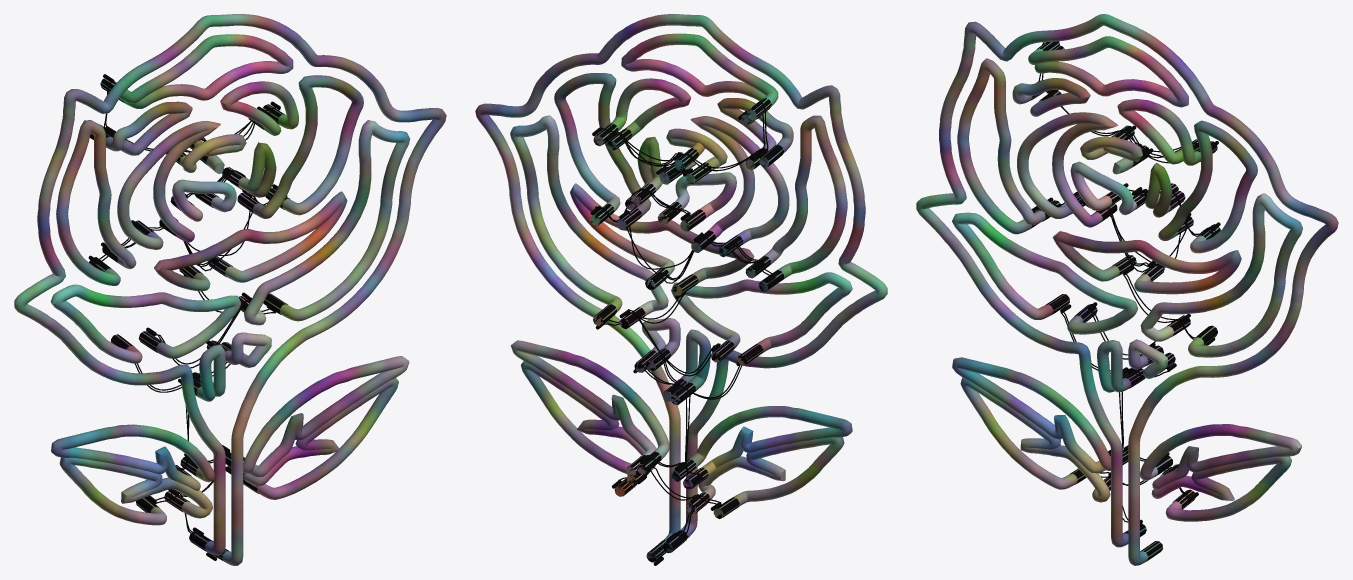
Rendered from neonsign_06.fbx.
The picture shows the model from 3 angles, left to right: view 1: azimuth 30°, elevation 25°; view 2: azimuth 150°, elevation 25°; view 3: azimuth 330°, elevation 25°; orthographic projection. The views are drawn at different scales.
Visible parts, largest first — view 1: neonsign_06; view 2: neonsign_06; view 3: neonsign_06.
Part boxes in pixels (x1,y1,x2,y2): neonsign_06: (14, 14, 446, 565); neonsign_06: (475, 14, 887, 565); neonsign_06: (916, 14, 1338, 565).
Bounding box in the file's own units: 1.57 × 1.96 × 0.1789.
